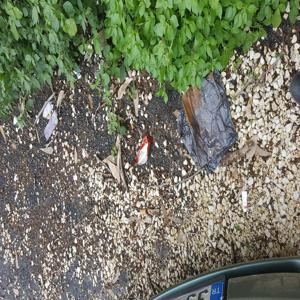plastic: (171, 73, 249, 174), (132, 136, 156, 171)
